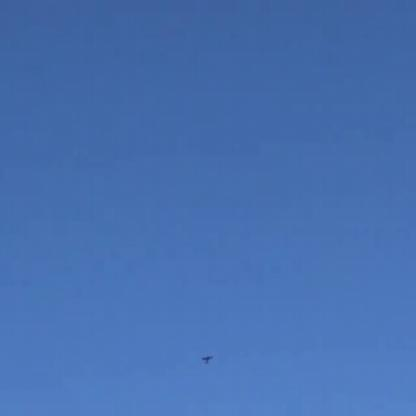CIV_Plane: (200, 356, 213, 364)
